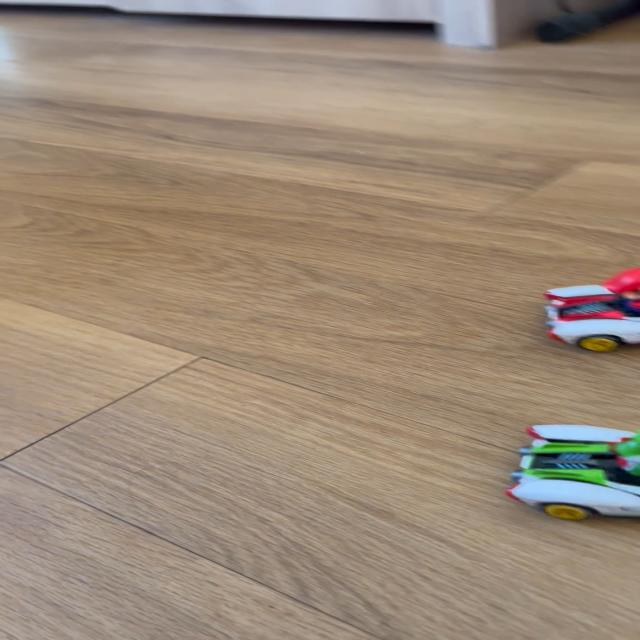mario: (524, 256, 637, 352)
yoshi: (490, 417, 638, 534)
